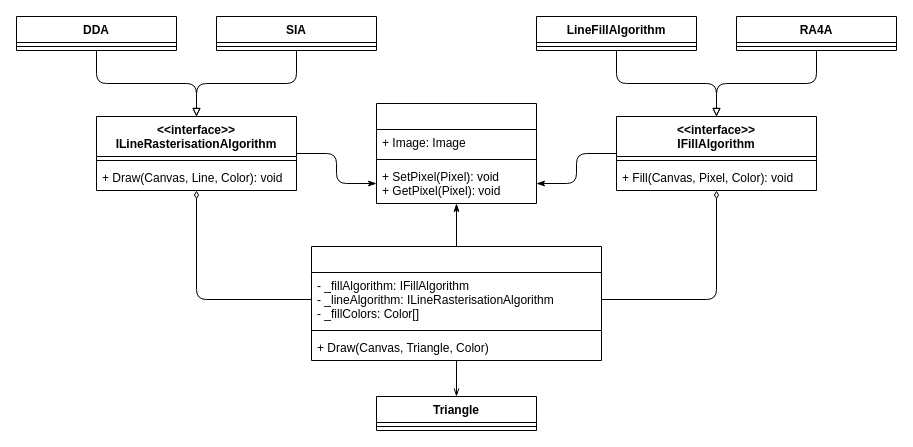
This 913x447 diagram has some shape labels left out. The shapes that lost their labels are listed below. From the top down, each one's box as (x1, y1, x2, y2) in pixels, then its label:
(376, 102, 536, 204): Canvas
(310, 246, 602, 360): Drawer
